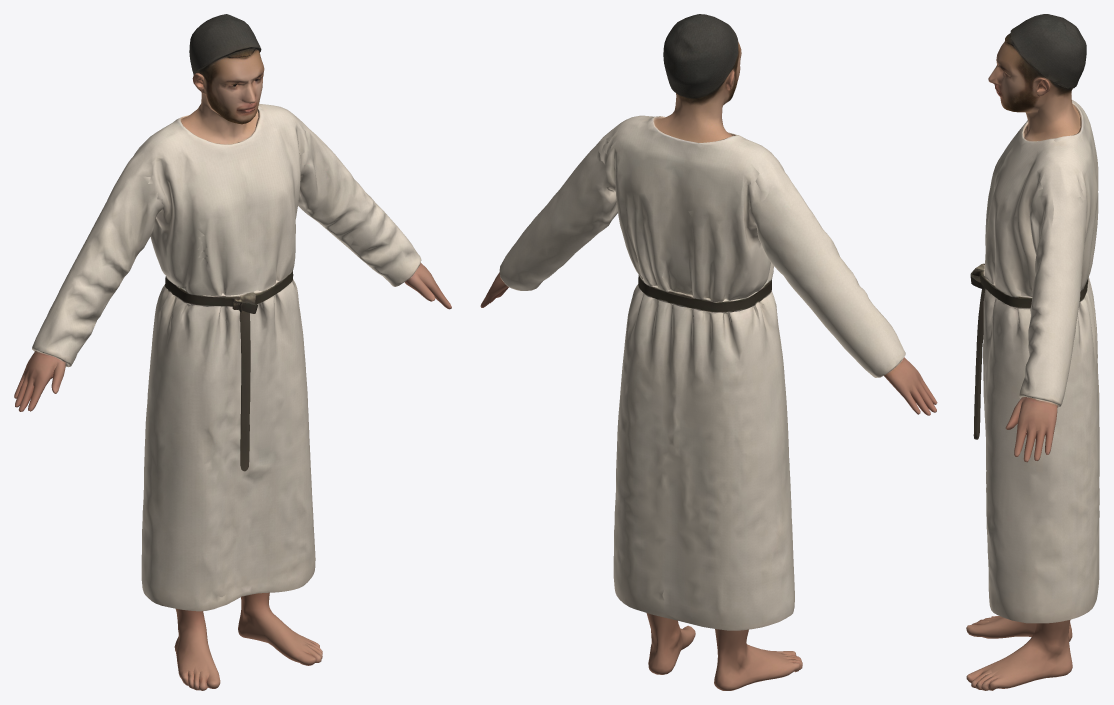
Rendered from israelite_kippa_1.glb.
3 views of the same model, side by side, from view 1: azimuth 30°, elevation 25°; view 2: azimuth 150°, elevation 25°; view 3: azimuth 270°, elevation 25° (orthographic). The views are drawn at different scales.
Parts seen in each view (by area): view 1: Mesh; view 2: Mesh; view 3: Mesh.
Part boxes in pixels (left/top/right/bottom): Mesh: left=14, top=14, right=451, bottom=690; Mesh: left=480, top=14, right=937, bottom=690; Mesh: left=966, top=14, right=1099, bottom=690.
Size of the model in its own units: 1.36 by 1.9 by 0.3582.
1 material, 1 textured.
